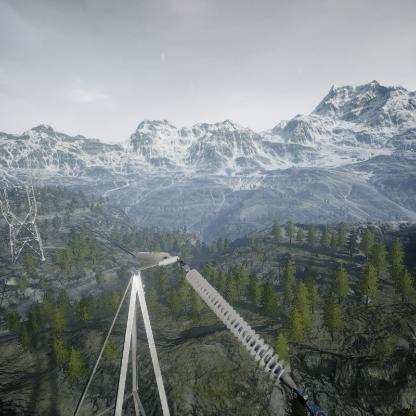insulator: (183, 263, 300, 396)
tower: (0, 168, 49, 266)
